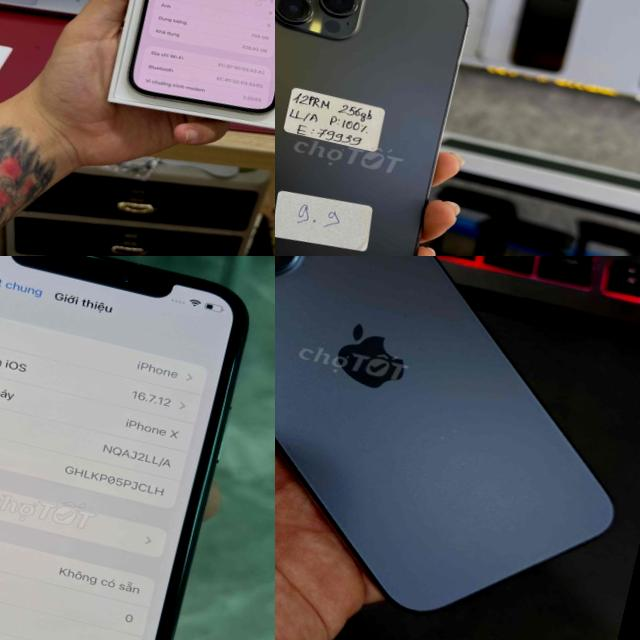scratch: (125, 256, 166, 278)
